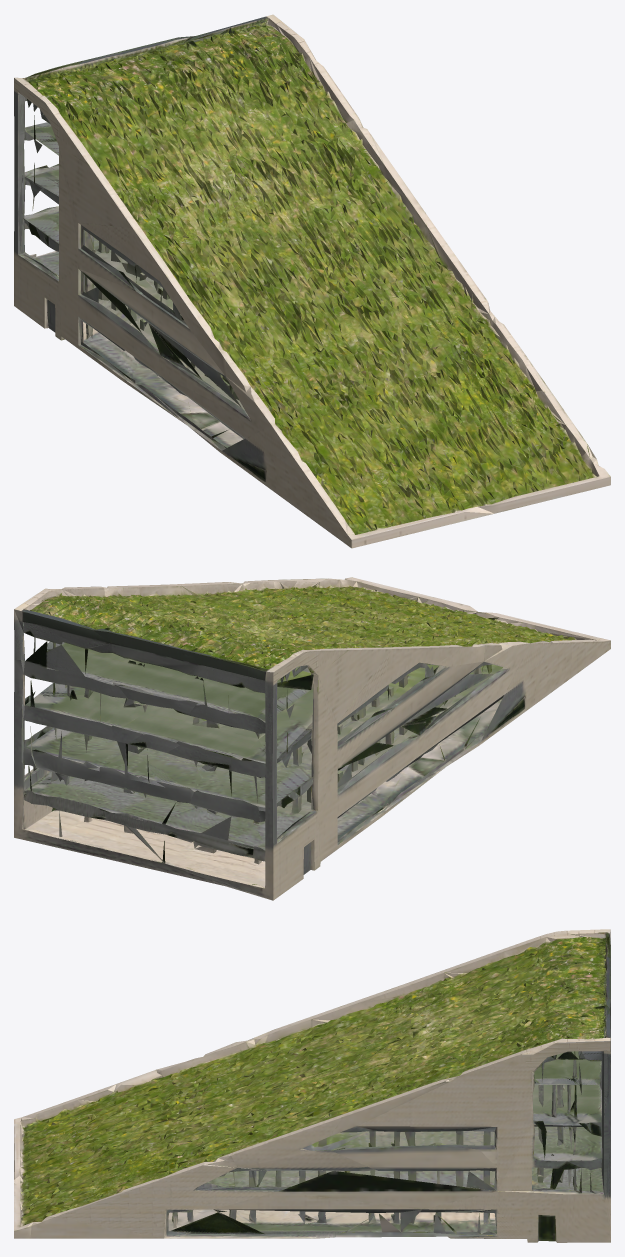
File: ncic.glb
The picture shows the model from 3 angles, top to bottom: view 1: azimuth 30°, elevation 25°; view 2: azimuth 150°, elevation 25°; view 3: azimuth 270°, elevation 25°; orthographic projection. The views are drawn at different scales.
Bounding box in the file's own units: 0.8423 × 0.7098 × 1.9.
1 material, 1 textured.
